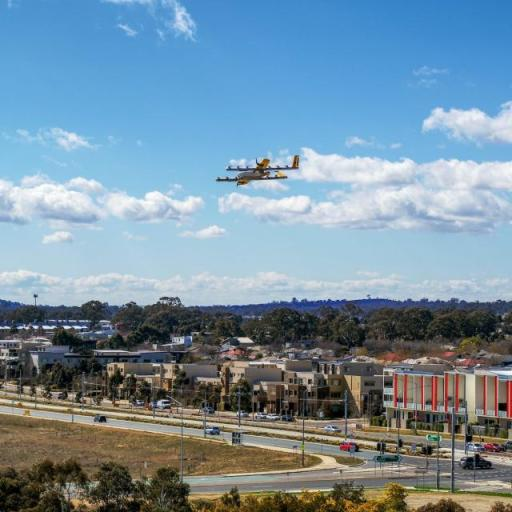uav: (212, 151, 302, 193)
